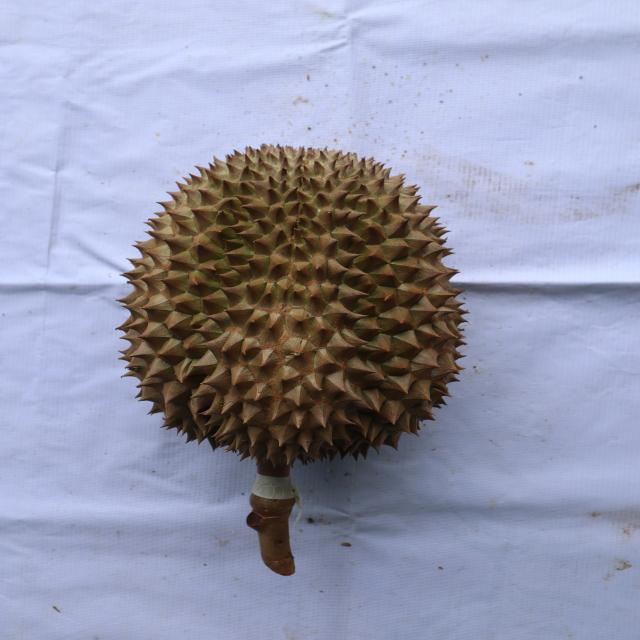mature: (114, 142, 474, 470)
